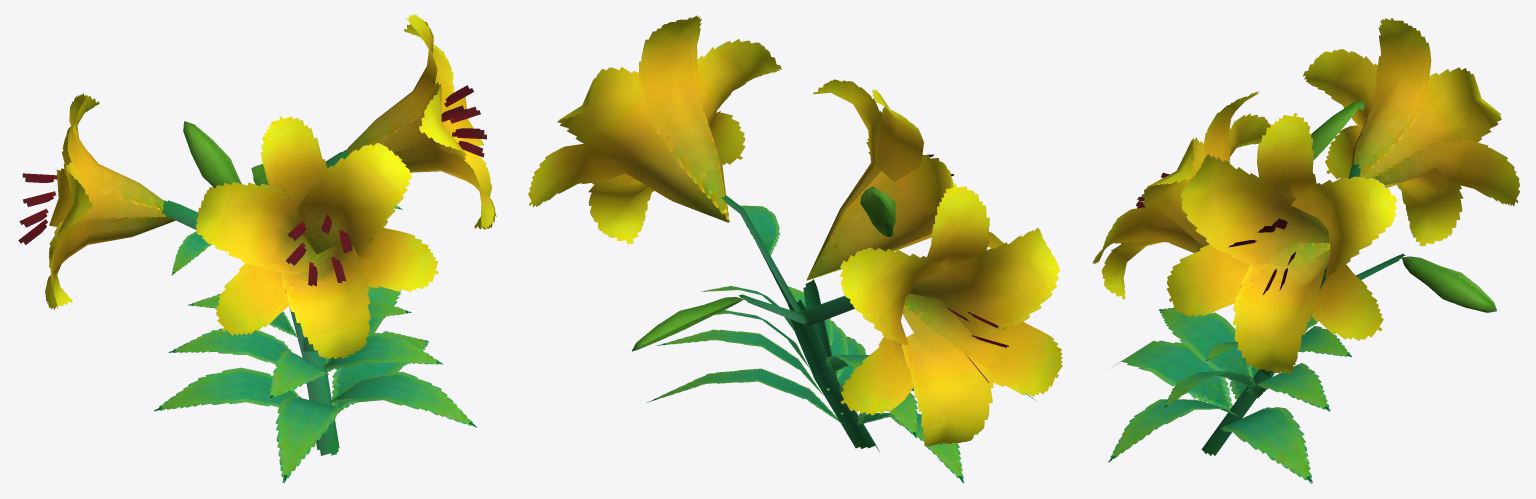
File: yellow-lilies.glb
3 views of the same model, side by side, from view 1: azimuth 30°, elevation 25°; view 2: azimuth 150°, elevation 25°; view 3: azimuth 270°, elevation 25° (orthographic). The views are drawn at different scales.
Size of the model in its own units: 9.48 by 7.92 by 7.59.
Materials: 2 (2 with a texture image).
